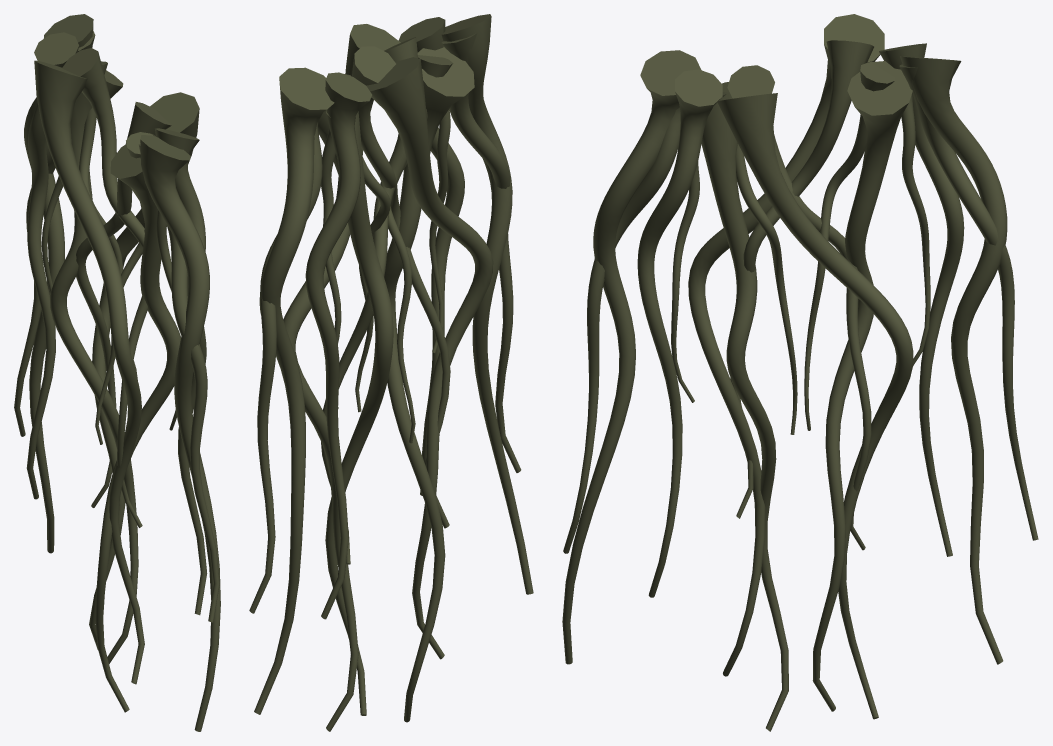
File: Sarmasik.fbx
The picture shows the model from 3 angles, left to right: view 1: azimuth 30°, elevation 25°; view 2: azimuth 150°, elevation 25°; view 3: azimuth 270°, elevation 25°; orthographic projection. The views are drawn at different scales.
Visible parts, largest first — view 1: NurbsPath.003; view 2: NurbsPath.003; view 3: NurbsPath.003.
Part boxes in pixels (bbox=[...]): NurbsPath.003: bbox=[14, 14, 220, 731]; NurbsPath.003: bbox=[249, 14, 533, 731]; NurbsPath.003: bbox=[562, 14, 1038, 731].
Bounding box in the file's own units: 226 × 1236 × 768.
